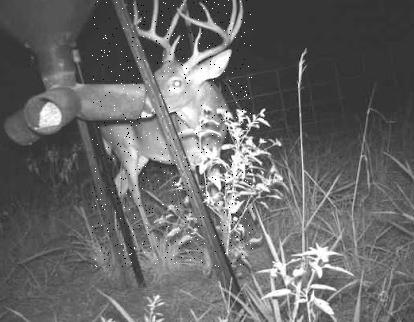Deer: (92, 0, 253, 267)
